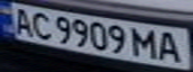0: (87, 19, 109, 52)
9: (106, 22, 130, 55), (69, 16, 90, 48), (51, 14, 72, 45)
A: (154, 29, 187, 64), (6, 4, 36, 36)
C: (27, 10, 54, 40)
M: (130, 26, 160, 60)
